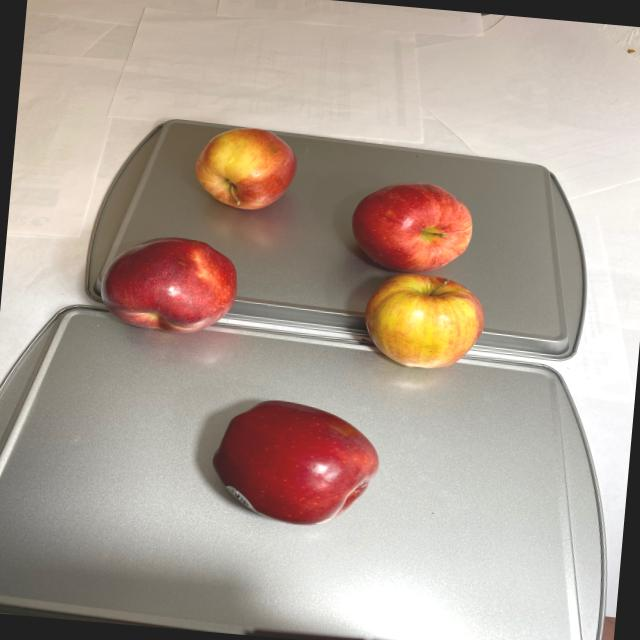apple: (78, 116, 499, 544)
